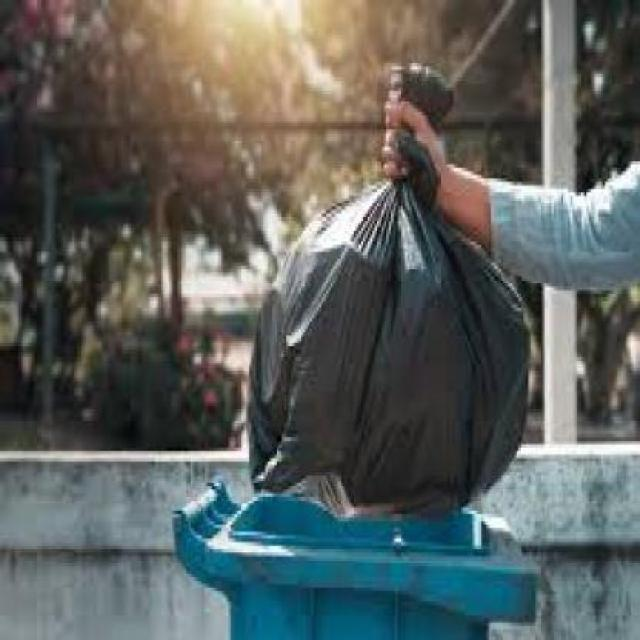garbage: (240, 43, 524, 529)
